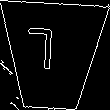L_S: (37, 30, 68, 82)
